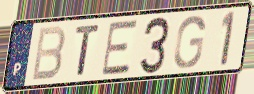1: (219, 10, 236, 68)
3: (137, 14, 172, 76)
B: (30, 24, 67, 83)
E: (100, 18, 139, 78)
G: (172, 14, 207, 70)
T: (74, 23, 102, 78)
